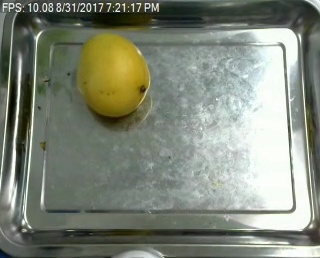Mango: (74, 30, 151, 117)
